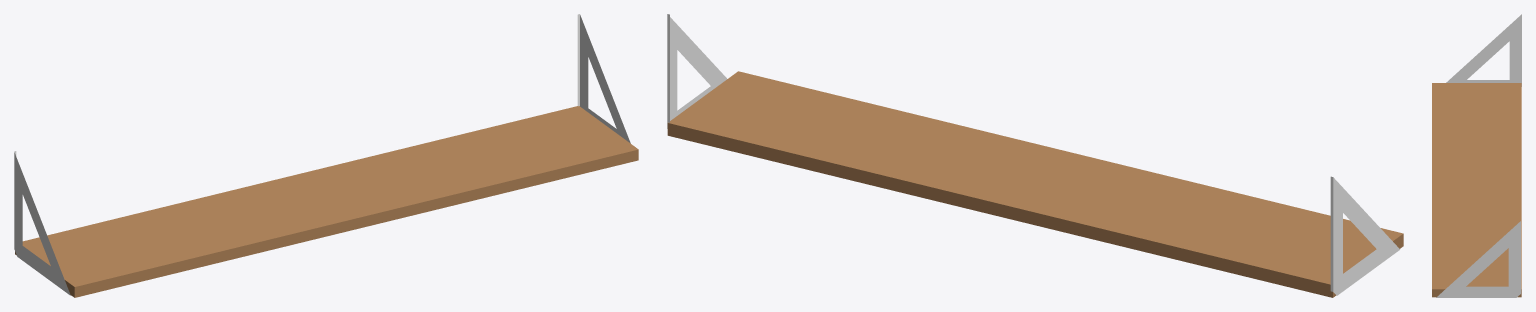
3 renders of one model, left to right at view 1: azimuth 30°, elevation 25°; view 2: azimuth 150°, elevation 25°; view 3: azimuth 270°, elevation 25°, orthographic. The views are drawn at different scales.
Visible parts, largest first — view 1: Group_001, konzola.shelve_001, konzola.shelve_002; view 2: Group_001, konzola.shelve_001, konzola.shelve_002; view 3: Group_001, konzola.shelve_002, konzola.shelve_001.
Part boxes in pixels (x1,y1,x2,y2): Group_001: (15,106,638,297); konzola.shelve_001: (14,151,71,295); konzola.shelve_002: (577,14,630,143); Group_001: (667,71,1403,297); konzola.shelve_001: (1330,176,1399,295); konzola.shelve_002: (667,14,726,128); Group_001: (1432,83,1521,297); konzola.shelve_002: (1436,221,1520,297); konzola.shelve_001: (1446,14,1521,86).
Size of the model in its own units: 42.92 by 7.48 by 7.9.
